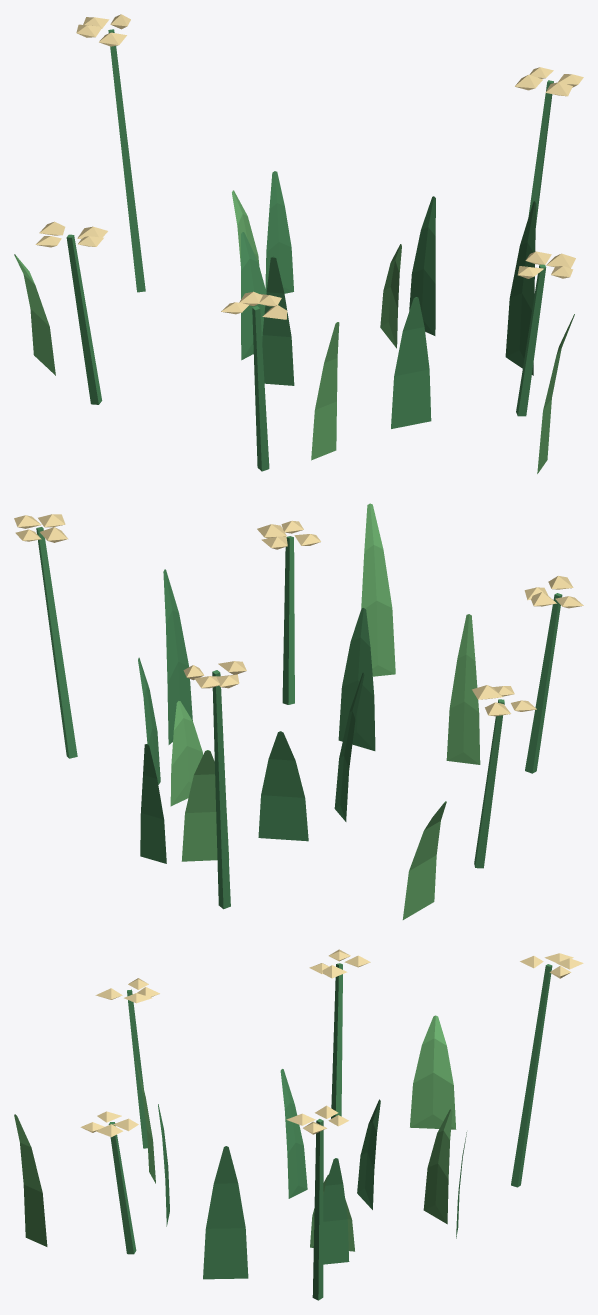
File: flowers_meadow_d.glb
3 renders of one model, top to bottom at view 1: azimuth 30°, elevation 25°; view 2: azimuth 150°, elevation 25°; view 3: azimuth 270°, elevation 25°, orthographic. The views are drawn at different scales.
Parts seen in each view (by area): view 1: FlowersMeadowD; view 2: FlowersMeadowD; view 3: FlowersMeadowD.
Part boxes in pixels (x1,y1,x2,y2): FlowersMeadowD: [14, 14, 583, 473]; FlowersMeadowD: [14, 503, 583, 919]; FlowersMeadowD: [14, 949, 583, 1300].
Bounding box in the file's own units: 0.9122 × 0.4268 × 0.9734.
